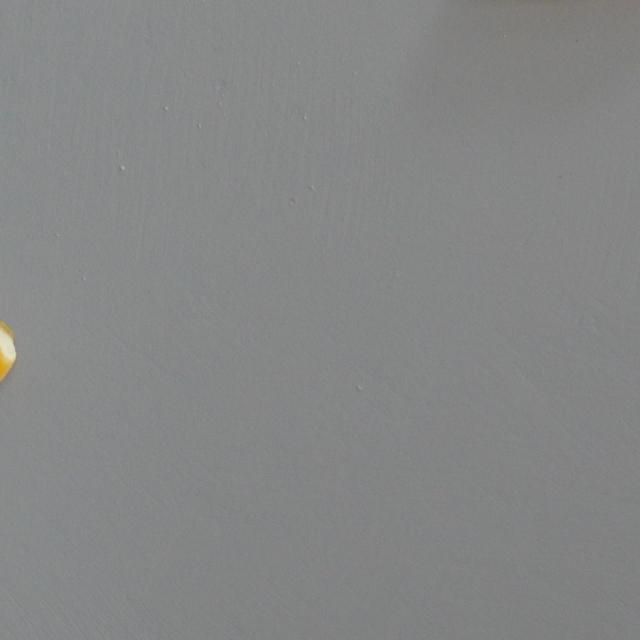pelicula: (0, 310, 16, 394)
